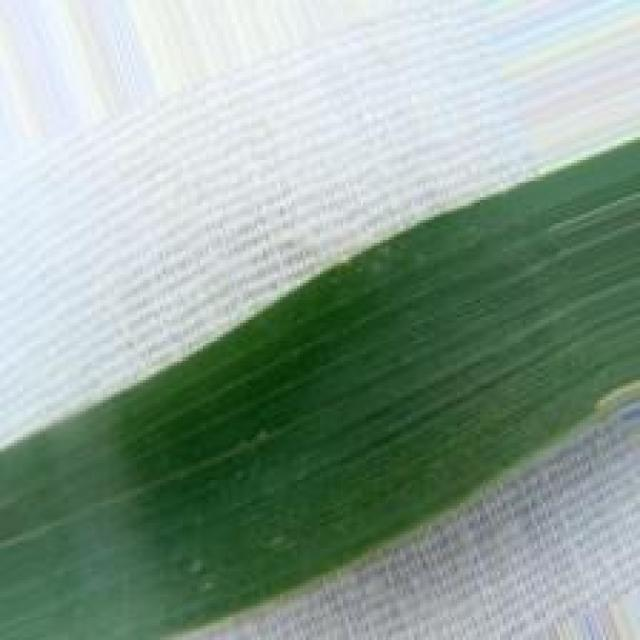Unhealthy: (595, 380, 640, 414)
